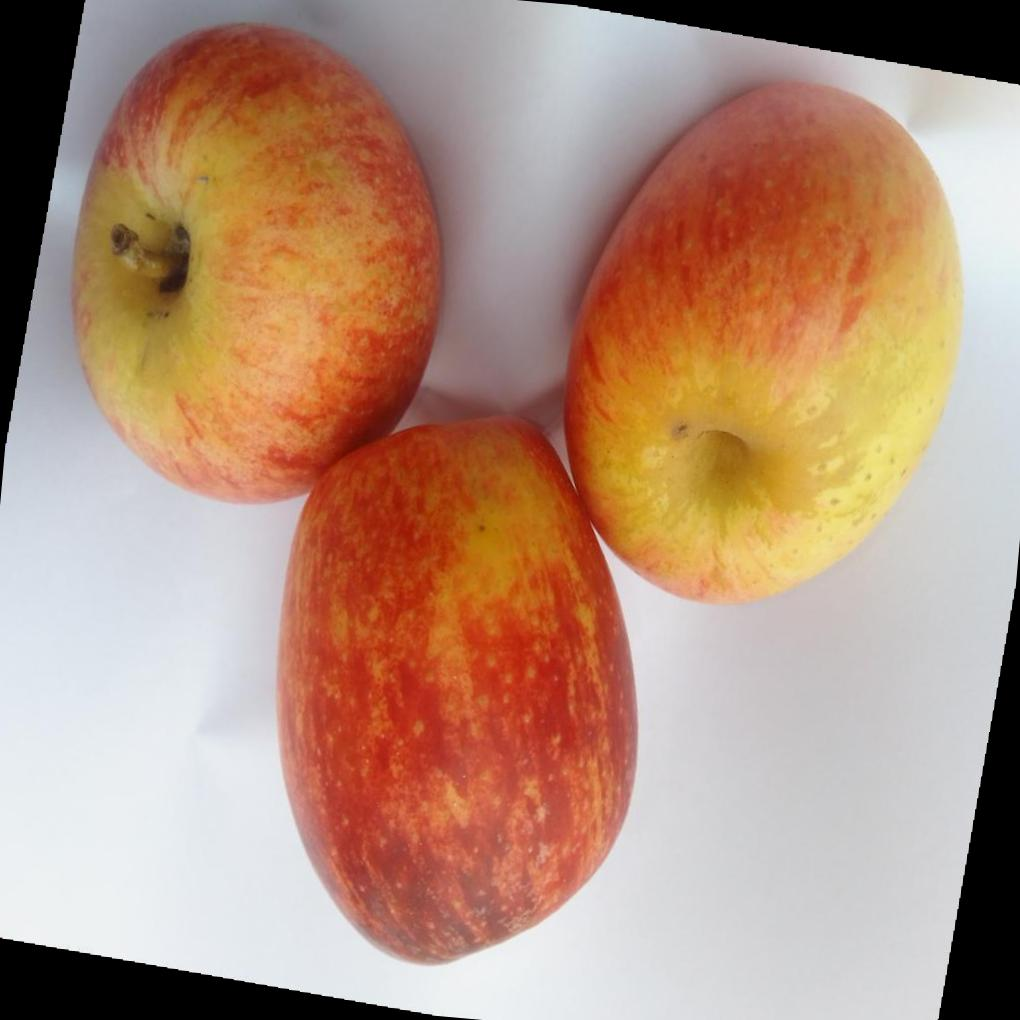FreshGuava: (69, 17, 966, 964)
